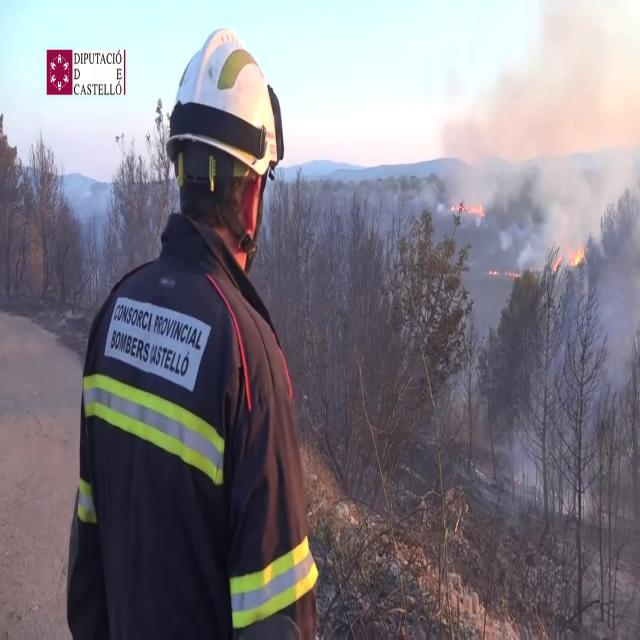Fire: (550, 235, 586, 276)
Smoke: (435, 0, 640, 296)
